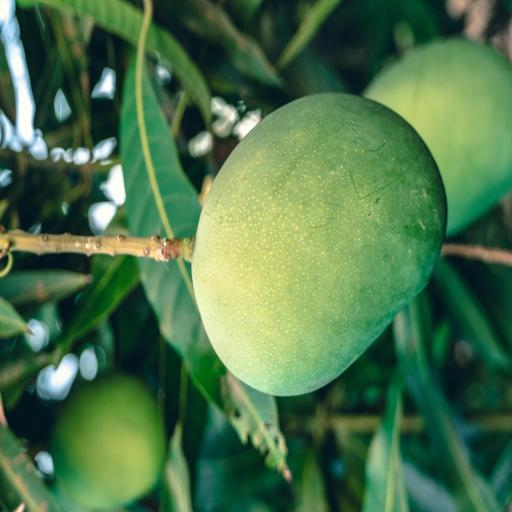Mango-Detection: (114, 33, 495, 488)
